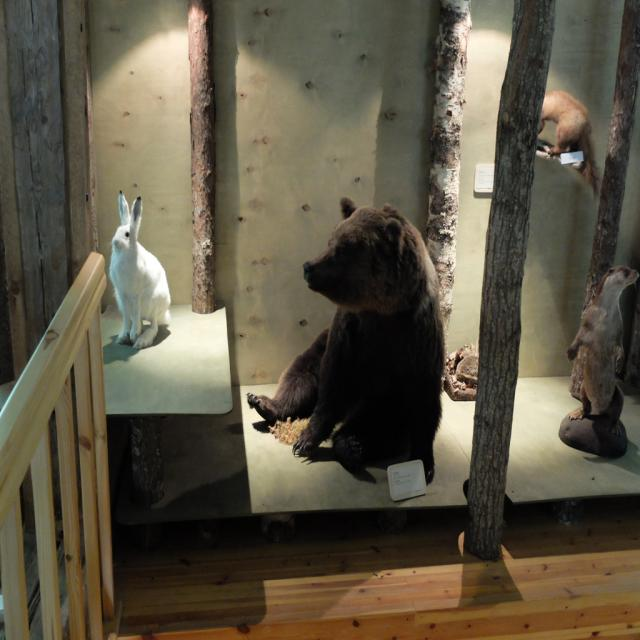Cheetahs: (244, 193, 446, 486)
